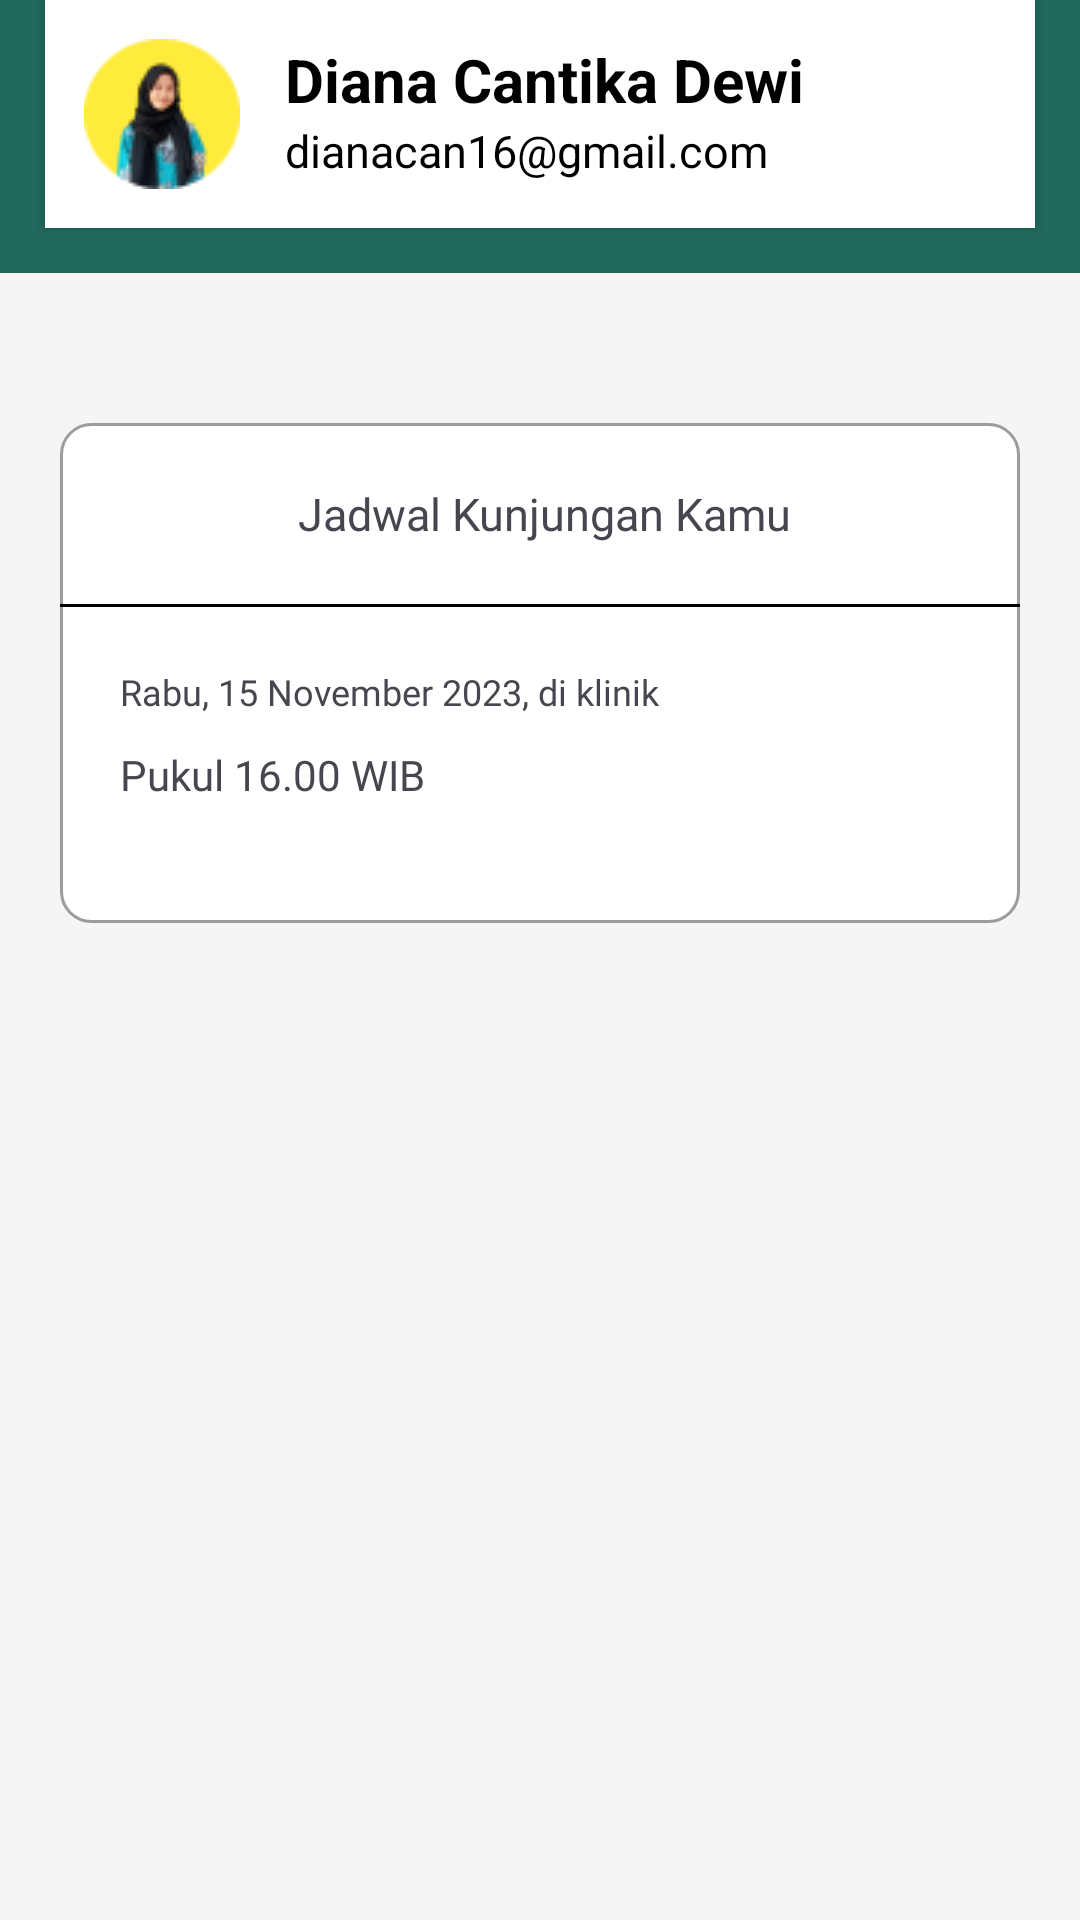

Icon bounding boxes for this 1080 x 1920 phone screenshot, format Rect(x1, y1, x2, y2):
potoprofil: Rect(84, 39, 240, 189)
